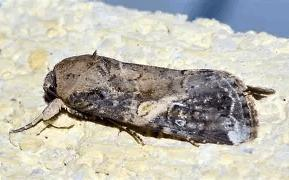army worm adult: (11, 40, 277, 157)
